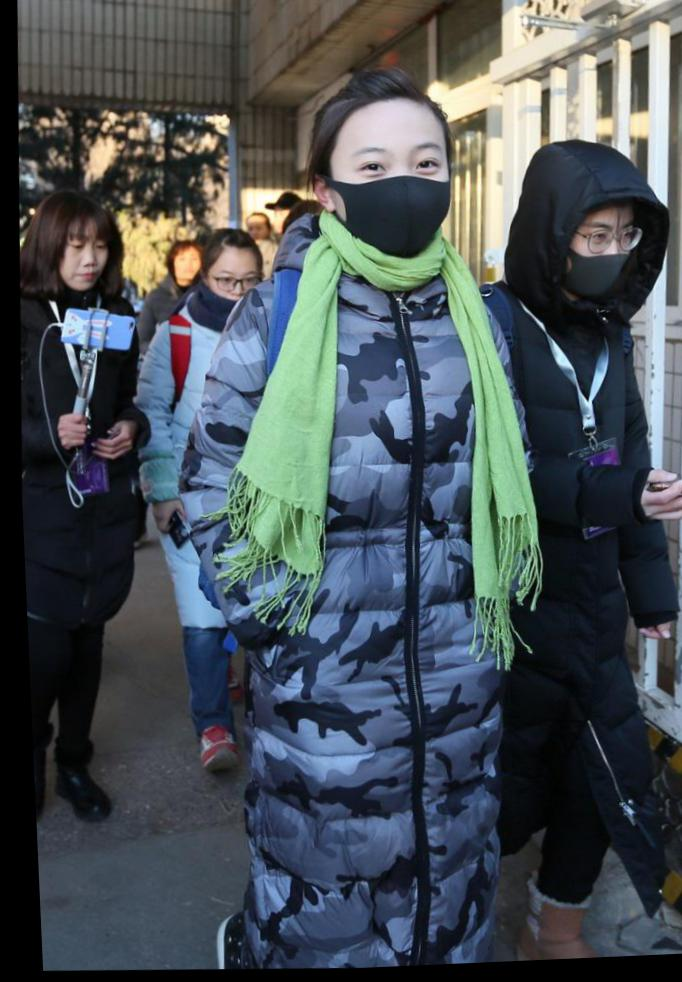NONE: (52, 226, 109, 294), (172, 251, 199, 283), (244, 221, 267, 246)
OK: (332, 126, 453, 267), (559, 212, 636, 305)
WRONG: (207, 262, 258, 316)
